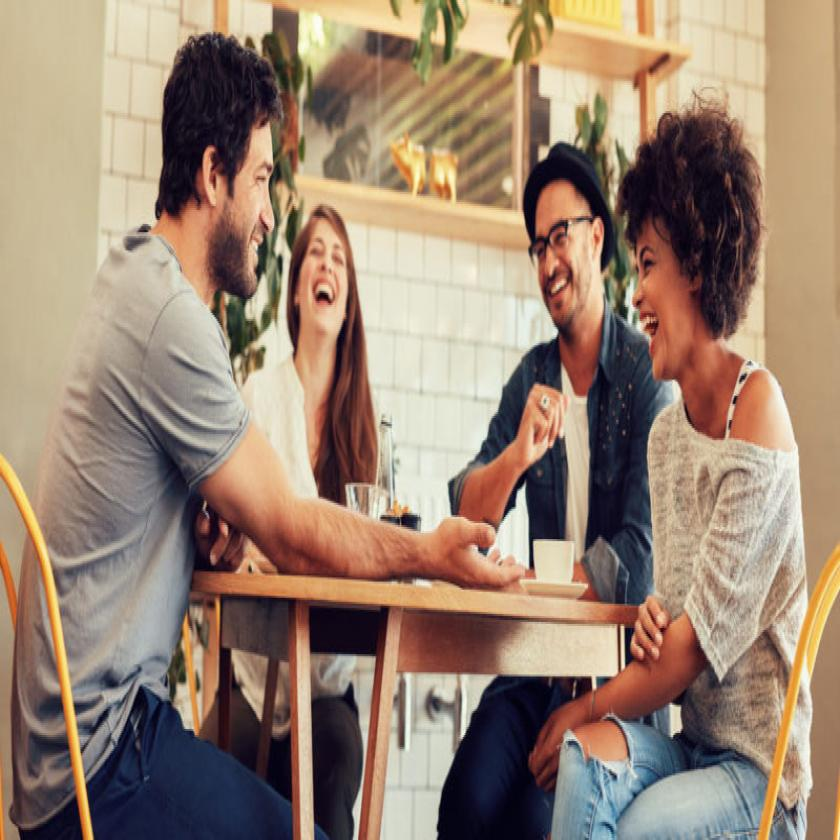Sin_casco: (623, 99, 769, 414), (160, 21, 279, 333), (297, 200, 363, 380)
